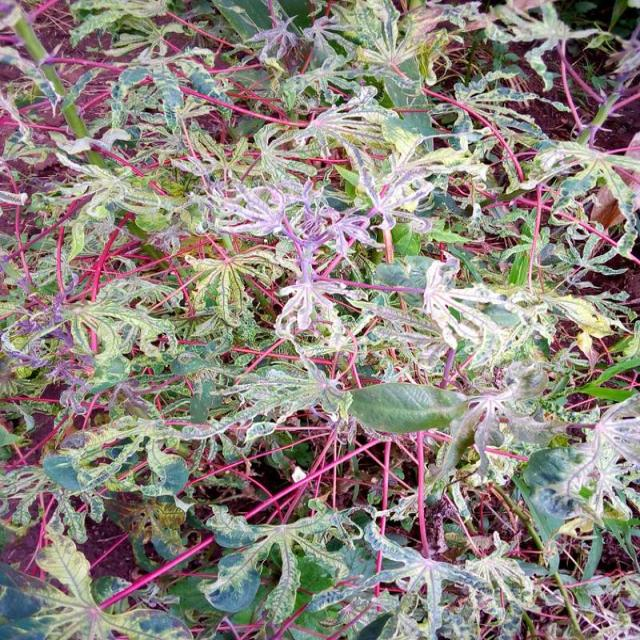cassava leaf: (2, 0, 640, 638), (337, 380, 470, 435)
